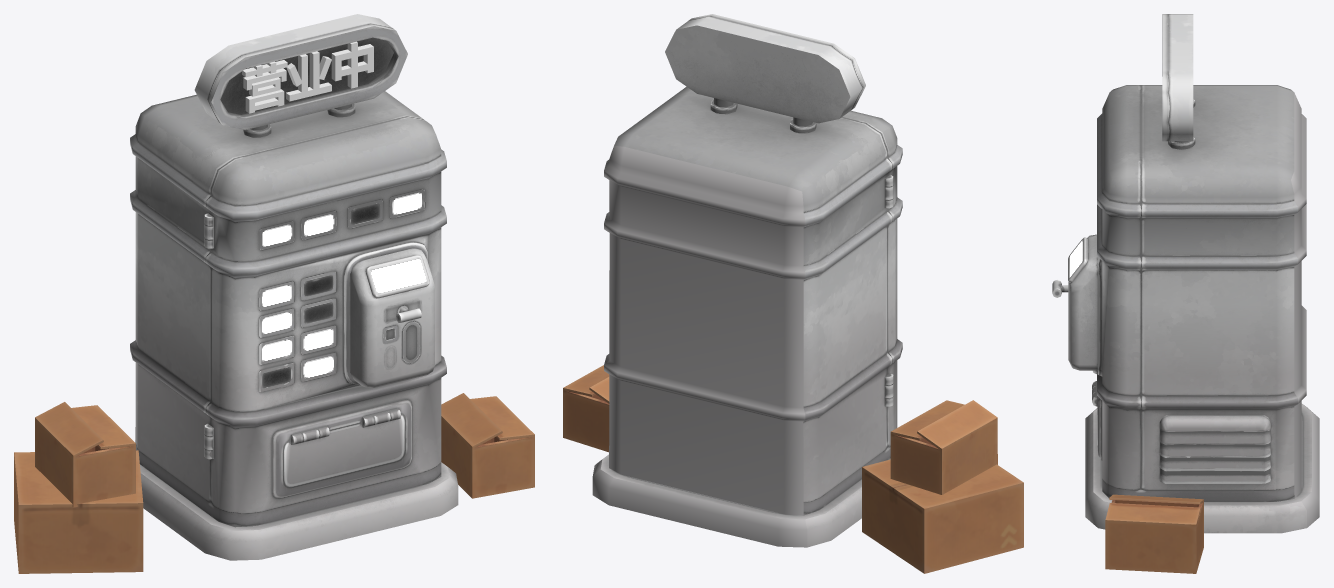
Rendered from SaleMachine__2.fbx.
3 renders of one model, left to right at view 1: azimuth 30°, elevation 25°; view 2: azimuth 150°, elevation 25°; view 3: azimuth 270°, elevation 25°, orthographic. The views are drawn at different scales.
Parts seen in each view (by area): view 1: MAT_BLD_VendingMachine, Mat_PaperBox_01_01, MAT_Emissive; view 2: MAT_BLD_VendingMachine, Mat_PaperBox_01_01; view 3: MAT_BLD_VendingMachine, Mat_PaperBox_01_01.
Boxes of the visible parts, bbox=[...] form: MAT_BLD_VendingMachine: bbox=[130, 14, 458, 560]; Mat_PaperBox_01_01: bbox=[14, 393, 534, 573]; MAT_Emissive: bbox=[242, 41, 373, 113]; MAT_BLD_VendingMachine: bbox=[592, 14, 902, 547]; Mat_PaperBox_01_01: bbox=[563, 365, 1023, 573]; MAT_BLD_VendingMachine: bbox=[1052, 14, 1319, 533]; Mat_PaperBox_01_01: bbox=[1105, 494, 1203, 573].
Bounding box in the file's own units: 2.96 × 2.77 × 1.53.
3 materials, 3 textured.
